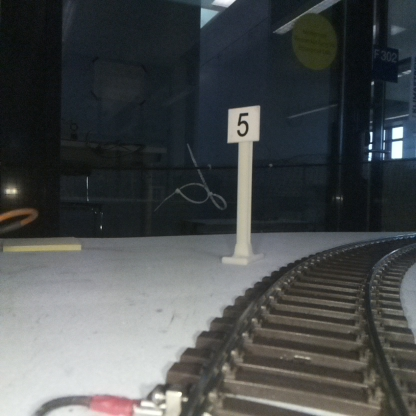white-info-5: (227, 106, 259, 263)
